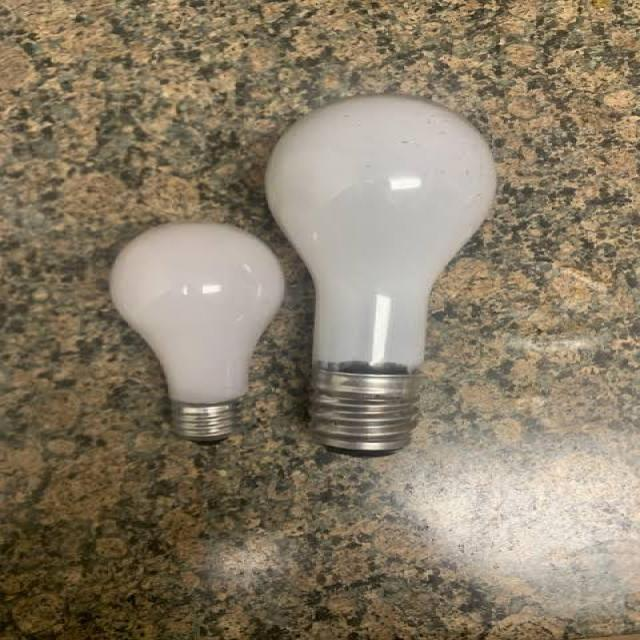bulb: (84, 215, 290, 471)
